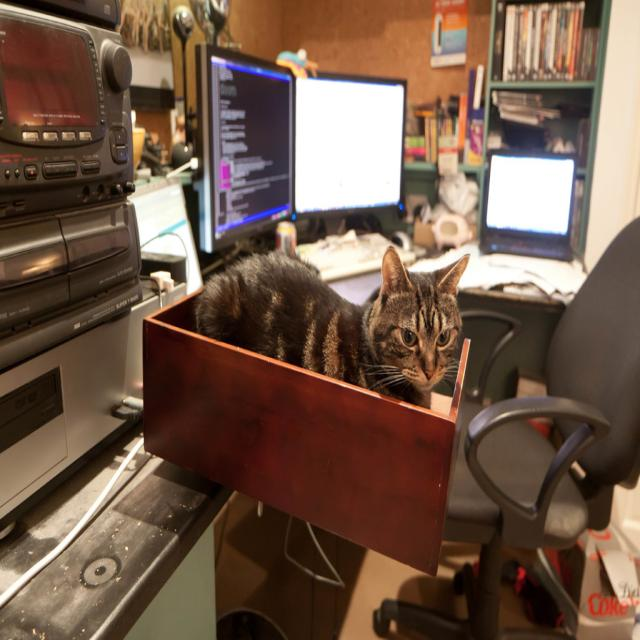Cat: (196, 245, 468, 412)
